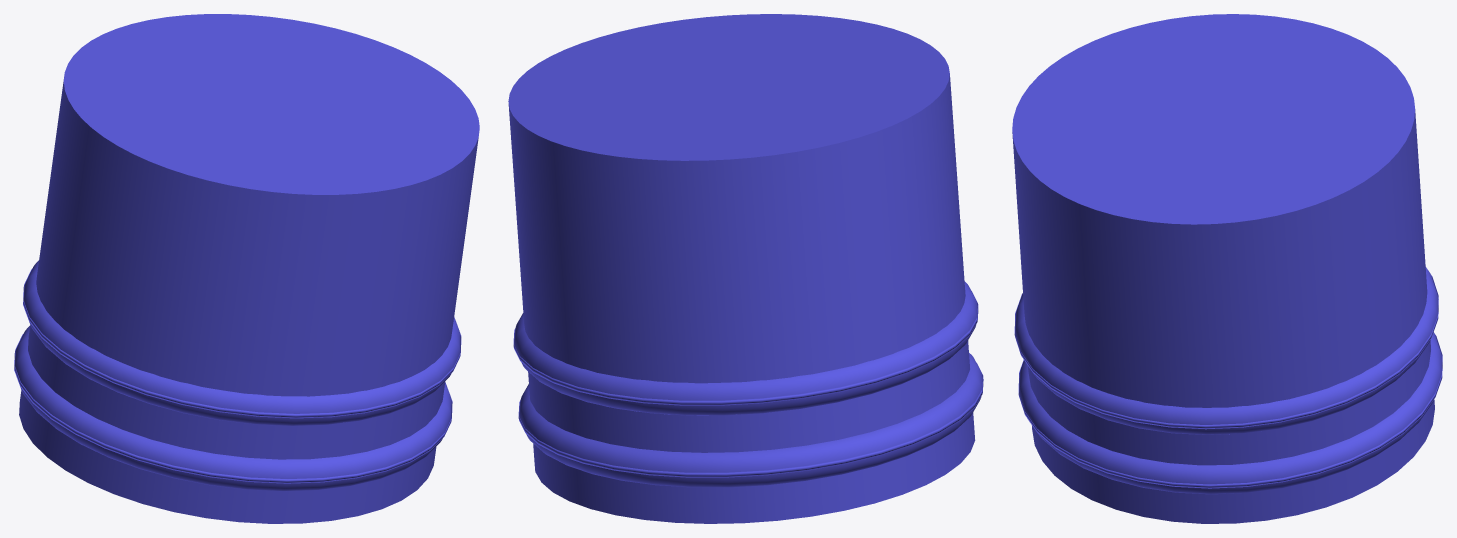
Rendered from bombilla182.obj.
The picture shows the model from 3 angles, left to right: view 1: azimuth 30°, elevation 25°; view 2: azimuth 150°, elevation 25°; view 3: azimuth 270°, elevation 25°; orthographic projection. The views are drawn at different scales.
Parts seen in each view (by area): view 1: Cylinder001, Cylinder004, Cylinder003, Cylinder002, Cylinder006; view 2: Cylinder001, Cylinder004, Cylinder003, Cylinder006, Cylinder002; view 3: Cylinder001, Cylinder004, Cylinder002, Cylinder003, Cylinder006.
Part boxes in pixels (left/top/right/bottom): Cylinder001: left=36, top=14, right=479, bottom=396; Cylinder004: left=14, top=326, right=452, bottom=491; Cylinder003: left=28, top=325, right=445, bottom=459; Cylinder002: left=23, top=260, right=461, bottom=425; Cylinder006: left=19, top=390, right=436, bottom=523; Cylinder001: left=508, top=14, right=965, bottom=383; Cylinder004: left=518, top=353, right=983, bottom=487; Cylinder003: left=528, top=340, right=969, bottom=452; Cylinder006: left=533, top=412, right=975, bottom=523; Cylinder002: left=513, top=281, right=978, bottom=415; Cylinder001: left=1012, top=14, right=1427, bottom=407; Cylinder004: left=1018, top=332, right=1442, bottom=494; Cylinder002: left=1014, top=267, right=1438, bottom=434; Cylinder003: left=1028, top=340, right=1430, bottom=465; Cylinder006: left=1032, top=400, right=1434, bottom=523.
Size of the model in its own units: 75.45 by 67.55 by 73.03.
